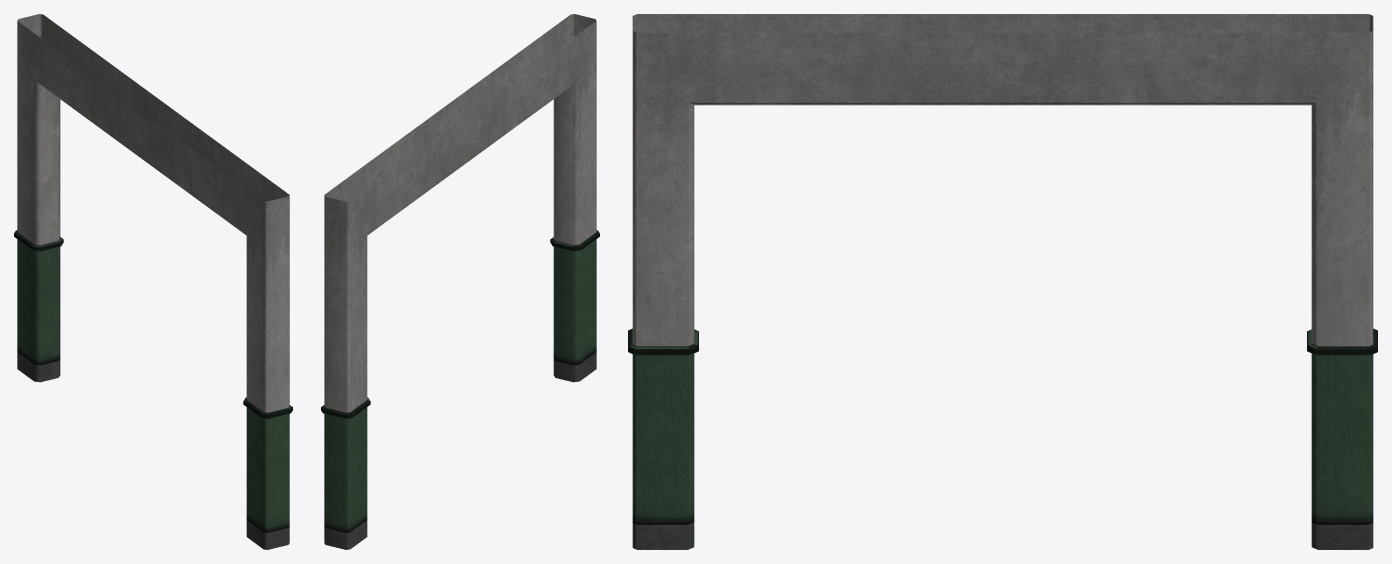
The model's file is Psychiatric_Ward_Infirmary_Wall_Gate_B.glb.
3 views of the same model, side by side, from view 1: azimuth 30°, elevation 25°; view 2: azimuth 150°, elevation 25°; view 3: azimuth 270°, elevation 25° (orthographic). The views are drawn at different scales.
Visible parts, largest first — view 1: Psychiatric_Ward_Infirmary_Wall_Gate_B; view 2: Psychiatric_Ward_Infirmary_Wall_Gate_B; view 3: Psychiatric_Ward_Infirmary_Wall_Gate_B.
Part boxes in pixels (bbox=[...]): Psychiatric_Ward_Infirmary_Wall_Gate_B: bbox=[14, 14, 292, 549]; Psychiatric_Ward_Infirmary_Wall_Gate_B: bbox=[321, 14, 599, 549]; Psychiatric_Ward_Infirmary_Wall_Gate_B: bbox=[628, 14, 1377, 549].
Size of the model in its own units: 0.3474 by 3.7 by 4.86.
1 material, 1 textured.
